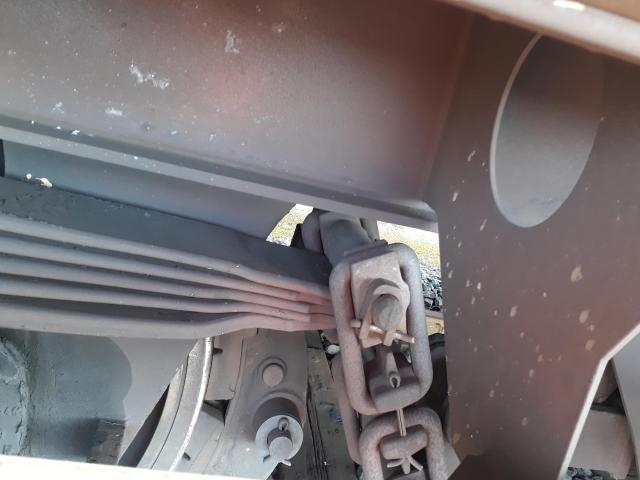blattfederww: (1, 242, 384, 340)
